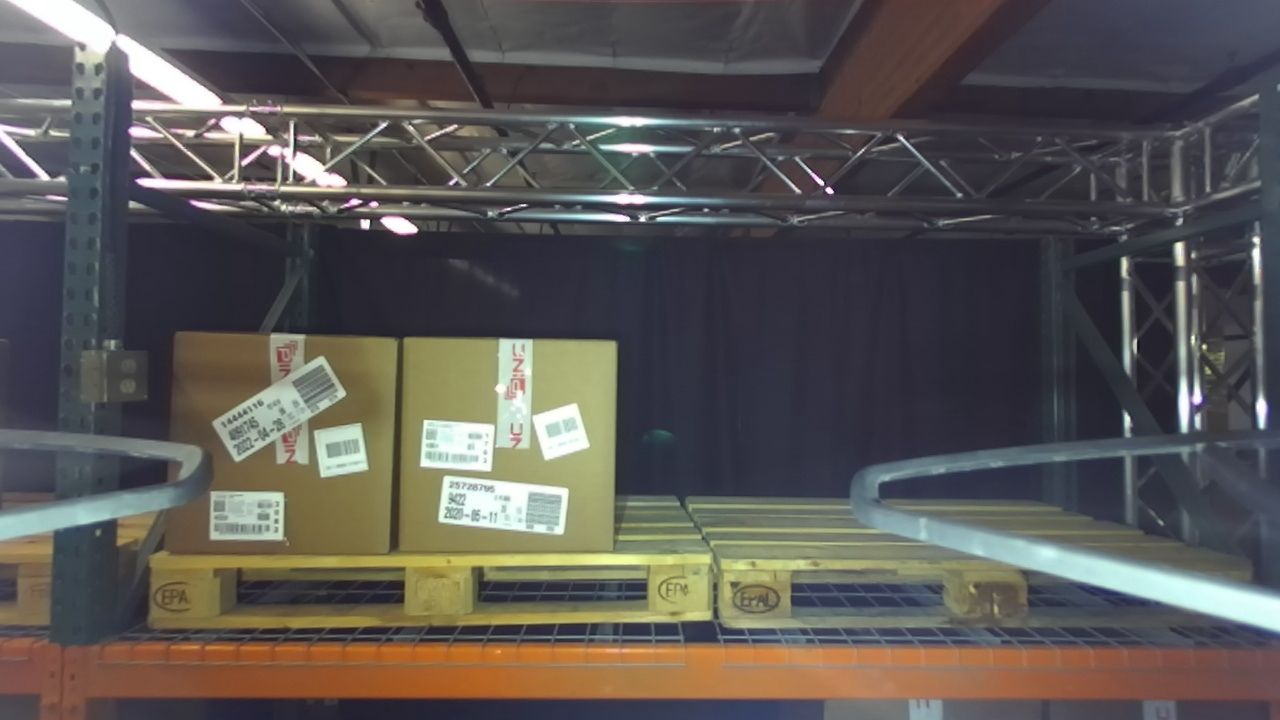box: (141, 311, 432, 587), (376, 314, 640, 586)
